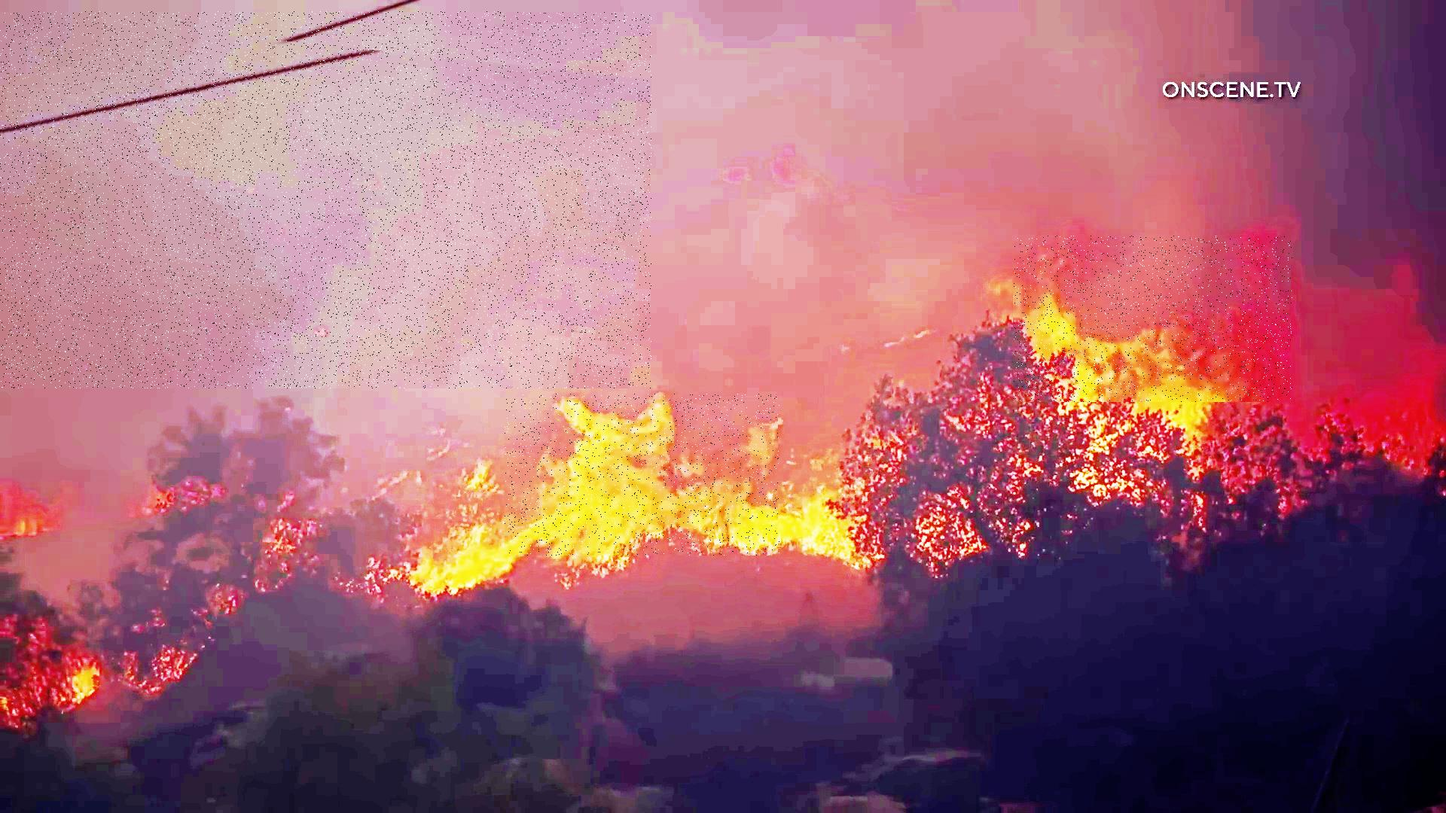fire: (1013, 236, 1293, 402), (505, 394, 780, 556)
smoke: (0, 11, 651, 388)
